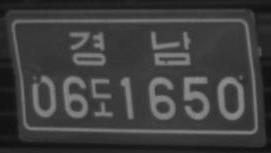0: (215, 74, 246, 122), (30, 72, 57, 119)
1: (117, 74, 140, 121)
5: (181, 74, 211, 122)
6: (147, 75, 177, 121), (62, 74, 90, 120)
경남_D: (67, 30, 192, 68)
도: (90, 75, 115, 118)
